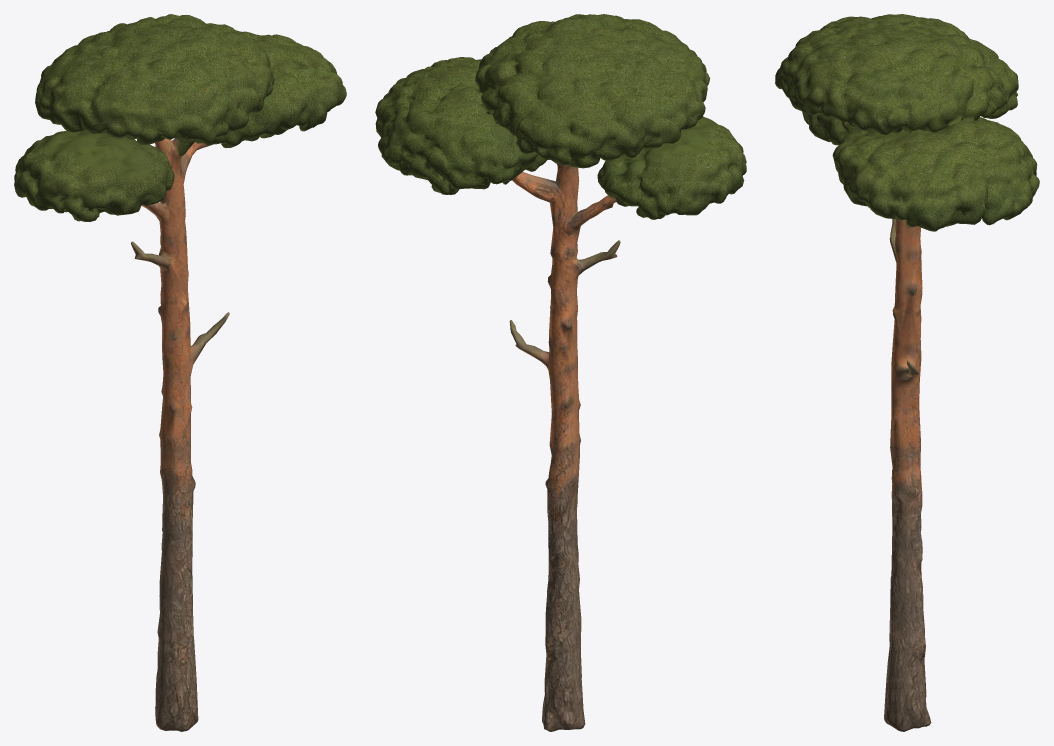
File: pino_alto.glb
3 views of the same model, side by side, from view 1: azimuth 30°, elevation 25°; view 2: azimuth 150°, elevation 25°; view 3: azimuth 270°, elevation 25° (orthographic). The views are drawn at different scales.
Parts seen in each view (by area): view 1: alto; view 2: alto; view 3: alto.
Boxes of the visible parts, left/top/right/bottom form: alto: left=14, top=14, right=346, bottom=731; alto: left=375, top=14, right=746, bottom=731; alto: left=775, top=14, right=1039, bottom=731.
Size of the model in its own units: 4.73 by 9.5 by 3.33.
Materials: 1 (1 with a texture image).
